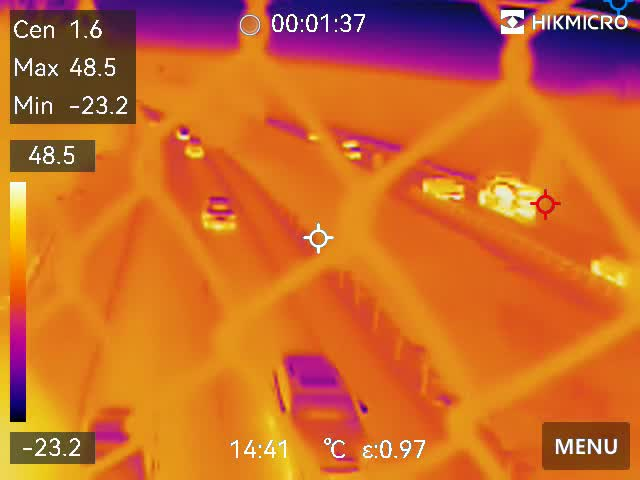heavyTruck: (476, 175, 545, 223)
largeCar: (269, 348, 374, 478)
vehicle: (79, 404, 160, 480), (199, 193, 243, 237), (417, 175, 465, 203), (337, 138, 363, 163), (186, 138, 208, 164), (170, 122, 194, 142)
